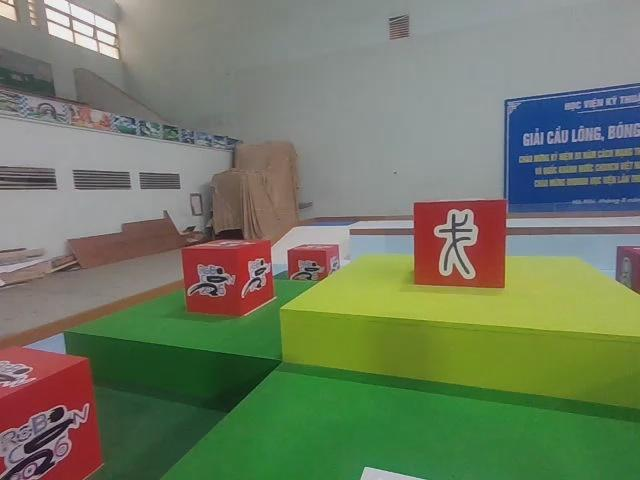R1: (0, 345, 106, 480), (181, 241, 277, 321), (286, 240, 339, 282)
R2 Fake: (413, 197, 509, 289)
